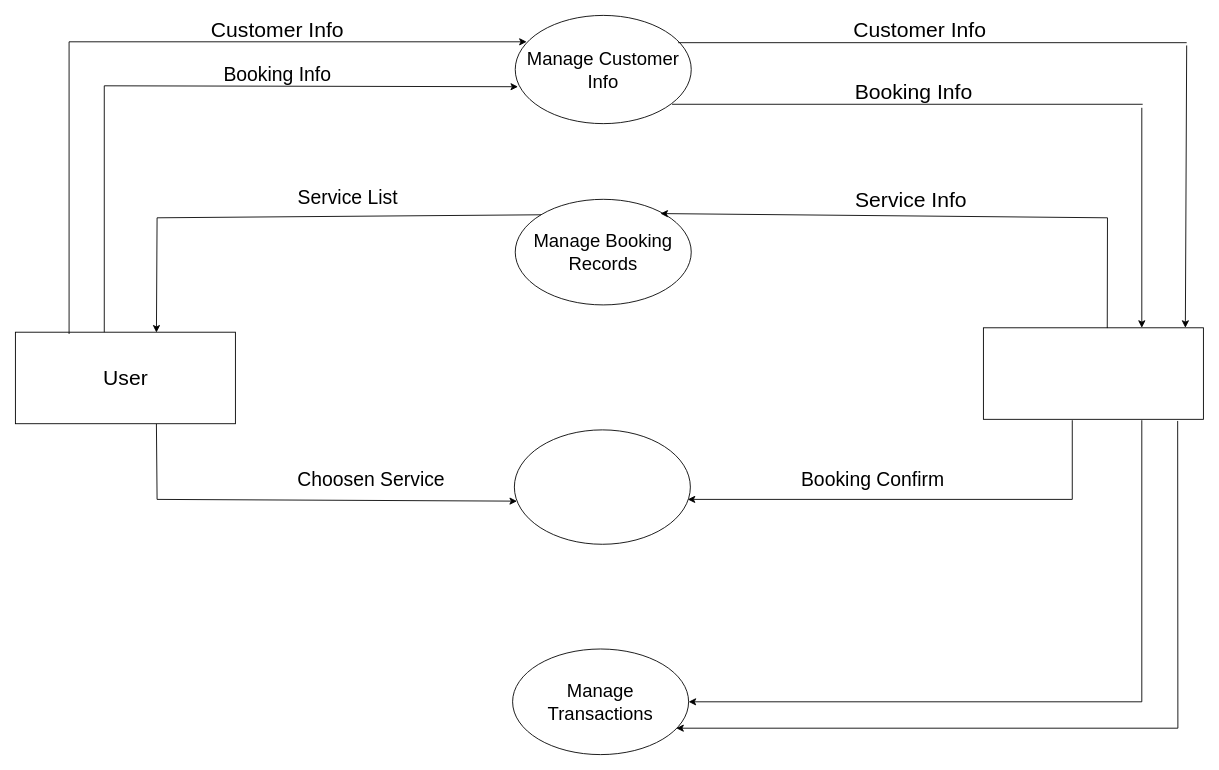
Some shapes in this 1219 by 770 pixel diagram are drawn without their labels. Here are the shapes that lost their labels. From the top down, the centre of each, then its label:
At point 1093,373: "Admin".
At point 601,486: "Monitor Booking Status".
